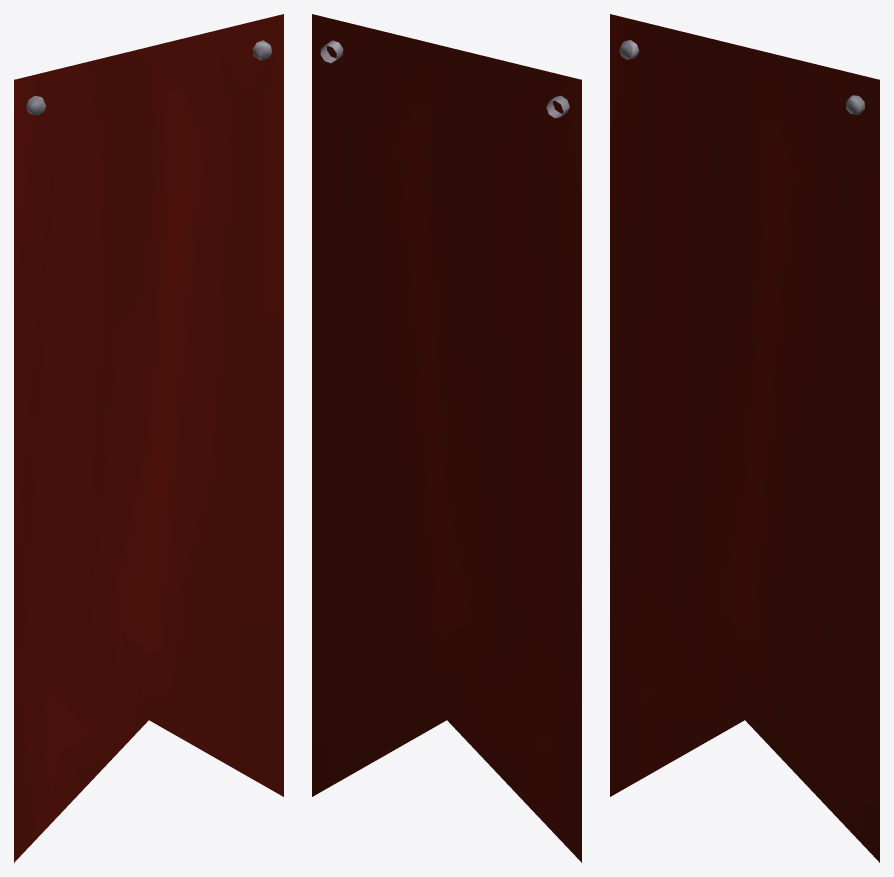
Rendered from banner.glb.
3 views of the same model, side by side, from view 1: azimuth 30°, elevation 25°; view 2: azimuth 150°, elevation 25°; view 3: azimuth 330°, elevation 25° (orthographic).
Parts seen in each view (by area): view 1: banner; view 2: banner; view 3: banner.
Boxes of the visible parts, box(x1,y1,x2,y2) form: banner: box(14, 14, 283, 862); banner: box(312, 14, 581, 862); banner: box(610, 14, 879, 862).
Bounding box in the file's own units: 0.8102 × 2.25 × 0.0568.
